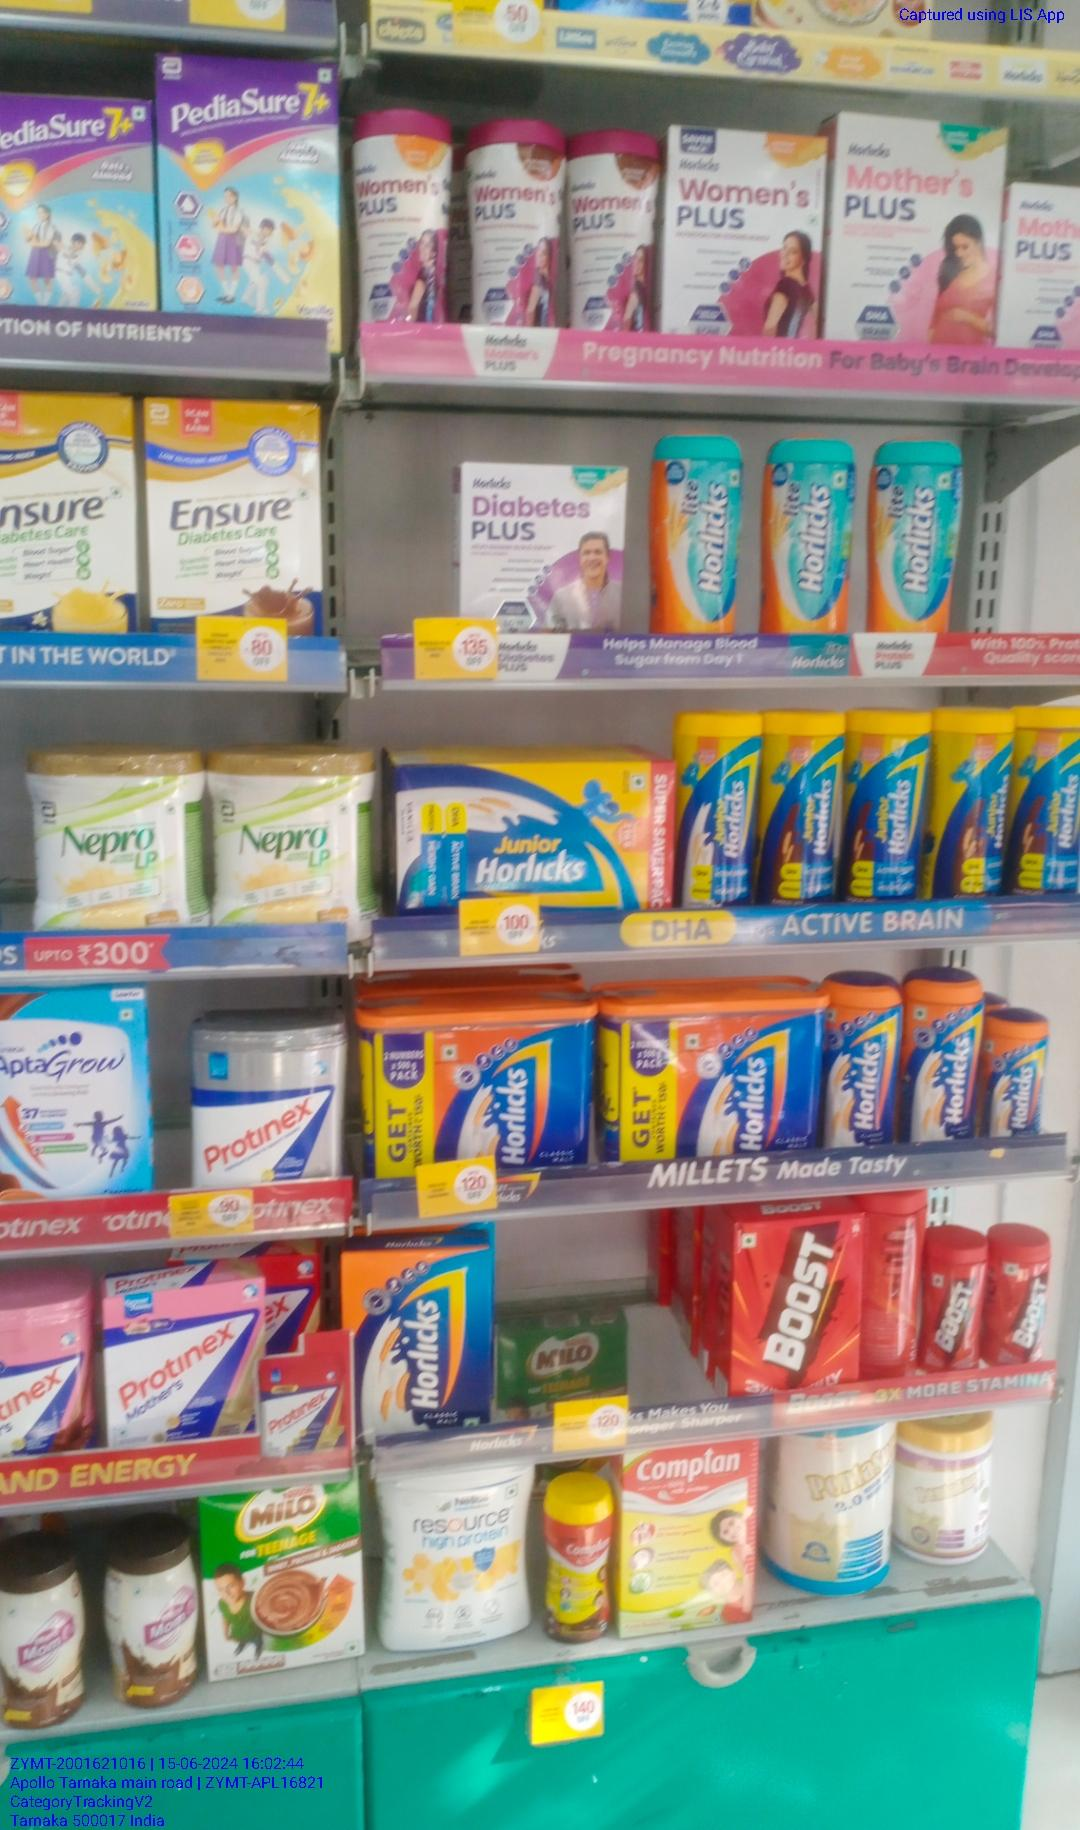COMPLAN_CHOCOLATE_200_GMS_JAR: (548, 1483, 612, 1641)
COMPLAN_PISTA_BADAM_500_GMS_PACK: (618, 1456, 753, 1626)
HORLICKS_JUNIOR_VANILLA_500_GM_JAR: (676, 717, 759, 906)
HORLICKS_LITE_REGULAR_MALT_500_GM_JAR: (648, 434, 743, 632), (867, 440, 958, 634), (762, 438, 850, 631)
HORLICK_CLASSIC_MALT_200_G_JAR: (984, 1010, 1044, 1139)
HORLICK_CLASSIC_MALT_500_G_JAR: (903, 972, 980, 1140), (828, 978, 900, 1145)
HORLICK_CLASSIC_MALT_500_G_PACK: (359, 1248, 492, 1435)
HORLICK_MALT_1_KG_CONTAINER: (357, 1010, 594, 1155), (602, 995, 816, 1149)
PROTINEX_ORIGINAL_400_G_JAR: (192, 1027, 345, 1176)
